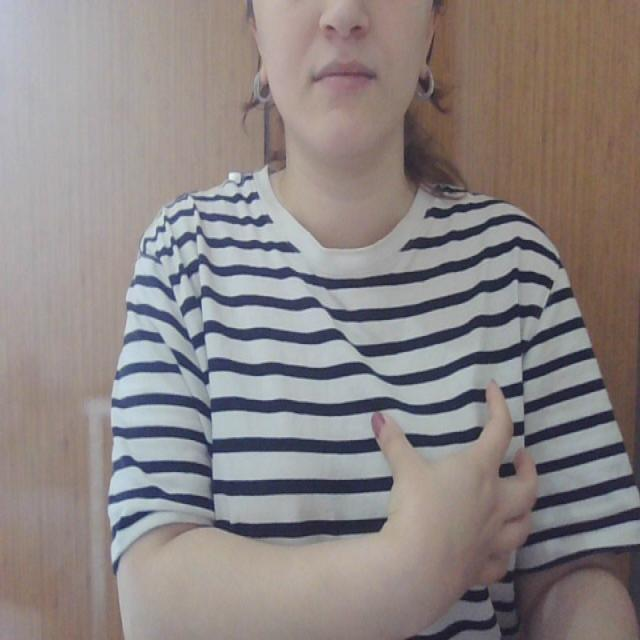Anne: (212, 372, 544, 601)
